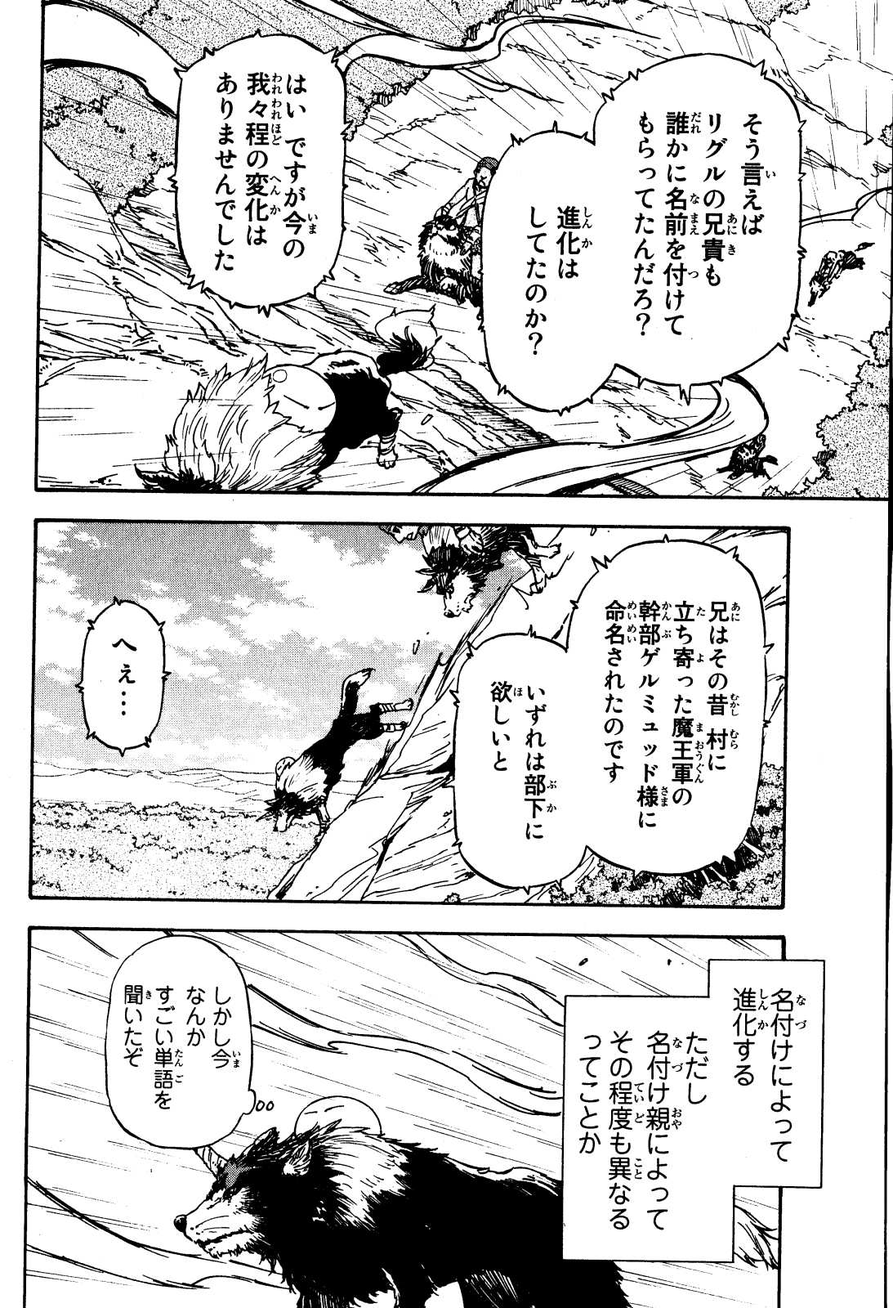bubbles: (480, 50, 813, 415), (449, 534, 778, 897), (558, 951, 828, 1265), (165, 29, 353, 318), (100, 928, 279, 1155), (71, 591, 173, 759)
